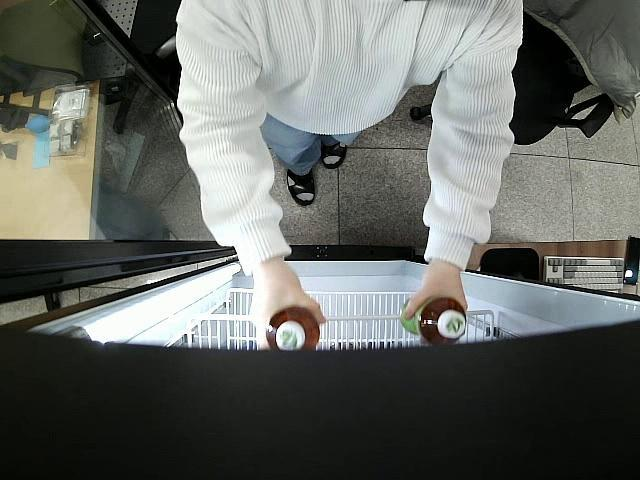19_17cha: (400, 296, 468, 345), (265, 307, 321, 355)
